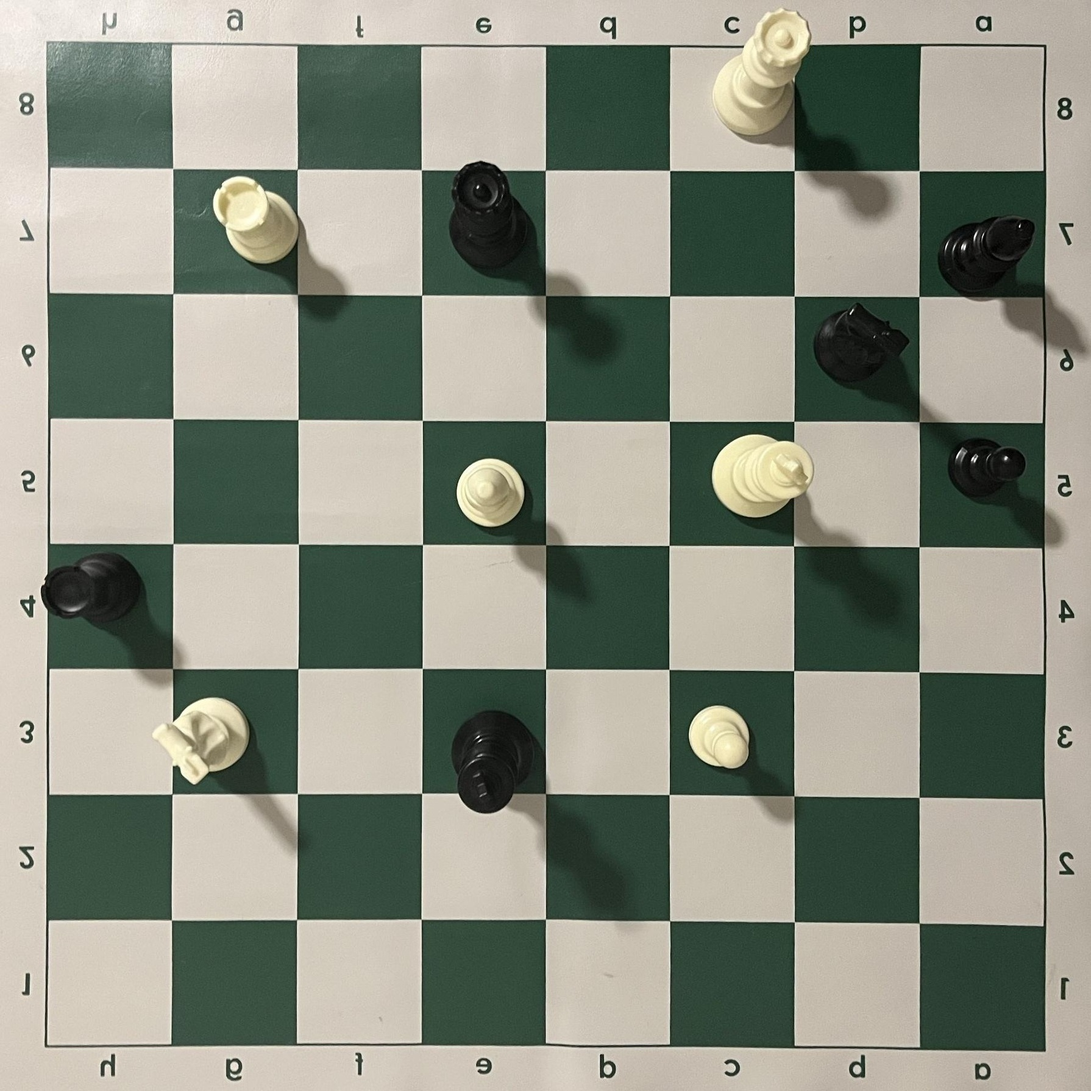black_bishop: (937, 215, 1037, 295)
black_king: (450, 708, 541, 816)
black_knight: (812, 302, 911, 385)
black_pawn: (946, 437, 1028, 499)
black_queen: (448, 161, 529, 272)
black_rook: (40, 551, 144, 625)
white_bishop: (456, 458, 526, 528)
white_king: (710, 434, 816, 519)
white_knight: (151, 697, 250, 786)
white_pawn: (688, 705, 751, 772)
white_queen: (711, 8, 812, 137)
white_rook: (212, 176, 300, 265)
